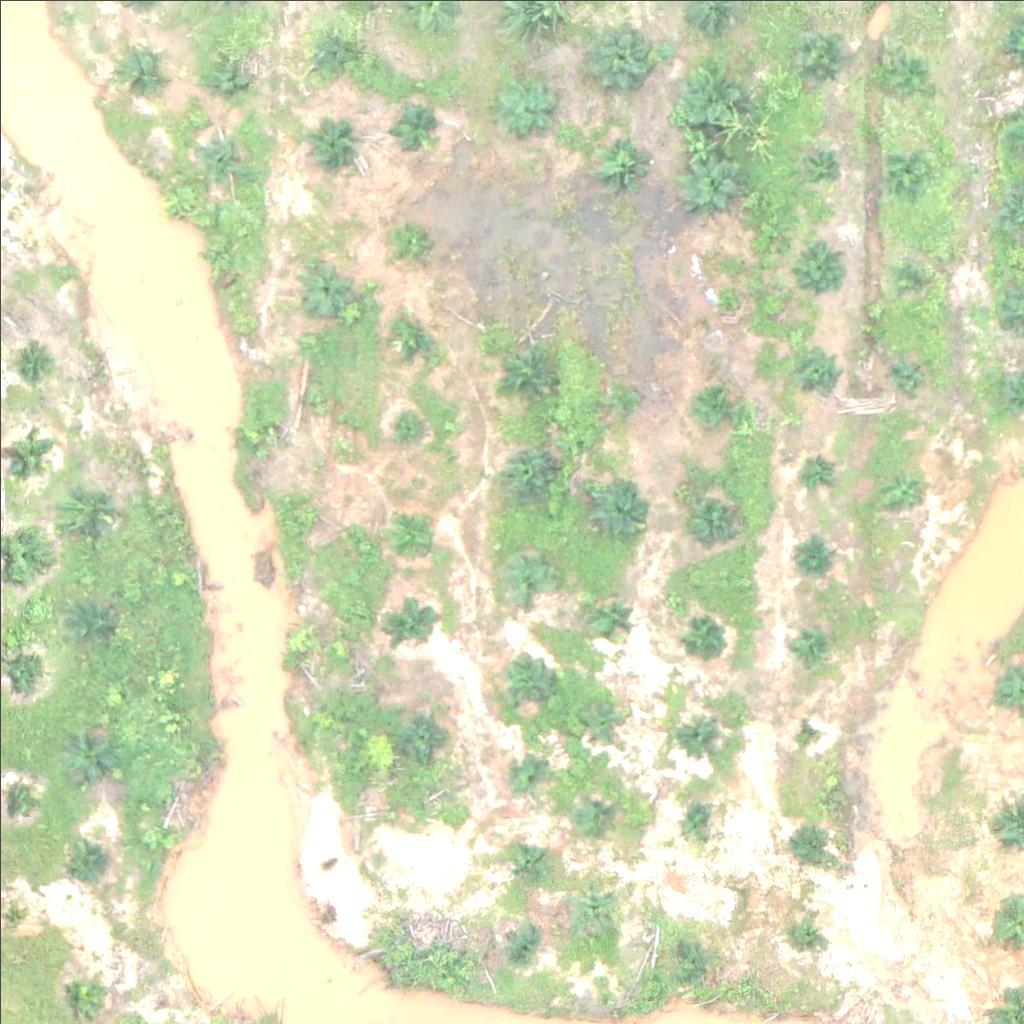Kelapa_Sawit: (590, 478, 653, 541), (592, 125, 655, 188), (588, 25, 651, 88), (493, 542, 556, 605), (678, 149, 741, 212), (495, 73, 557, 136), (677, 60, 739, 123), (499, 447, 549, 498), (500, 344, 550, 395), (794, 242, 844, 293), (389, 312, 439, 363), (59, 967, 109, 1018), (687, 493, 737, 544), (675, 612, 725, 663), (498, 657, 548, 707), (798, 33, 848, 83), (305, 125, 355, 175), (387, 100, 437, 150), (880, 53, 930, 103), (198, 130, 248, 180), (299, 261, 349, 311), (202, 45, 252, 95), (116, 46, 166, 96), (308, 21, 358, 71), (794, 141, 844, 191), (881, 145, 931, 195), (385, 593, 435, 643), (387, 503, 437, 553), (63, 728, 113, 778), (394, 708, 444, 758), (61, 477, 111, 527), (202, 235, 240, 273), (390, 224, 428, 262), (895, 258, 933, 296), (12, 434, 50, 472), (11, 343, 49, 381), (298, 383, 336, 421), (288, 496, 326, 534), (282, 621, 320, 659), (71, 839, 109, 877), (784, 917, 822, 955), (790, 531, 828, 569), (796, 451, 834, 489), (672, 803, 710, 841), (504, 761, 542, 799), (504, 848, 542, 886), (505, 923, 543, 961), (696, 387, 734, 425), (235, 421, 272, 459), (72, 601, 109, 639), (794, 823, 832, 860), (785, 707, 823, 744), (788, 623, 826, 660), (676, 720, 714, 757), (662, 923, 699, 961), (577, 886, 614, 924), (572, 794, 609, 832), (582, 698, 619, 736), (884, 474, 921, 512), (601, 381, 638, 419), (800, 355, 837, 393), (892, 357, 929, 395), (389, 403, 426, 440), (591, 595, 628, 632), (5, 785, 30, 810)
